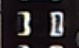COMP: (12, 8, 70, 39)
GAP: (16, 26, 63, 48)
